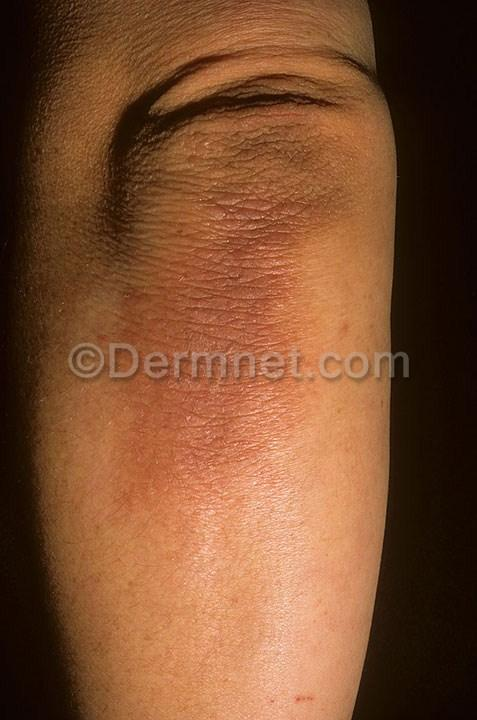Eczema: (108, 140, 338, 353), (103, 391, 343, 556)
